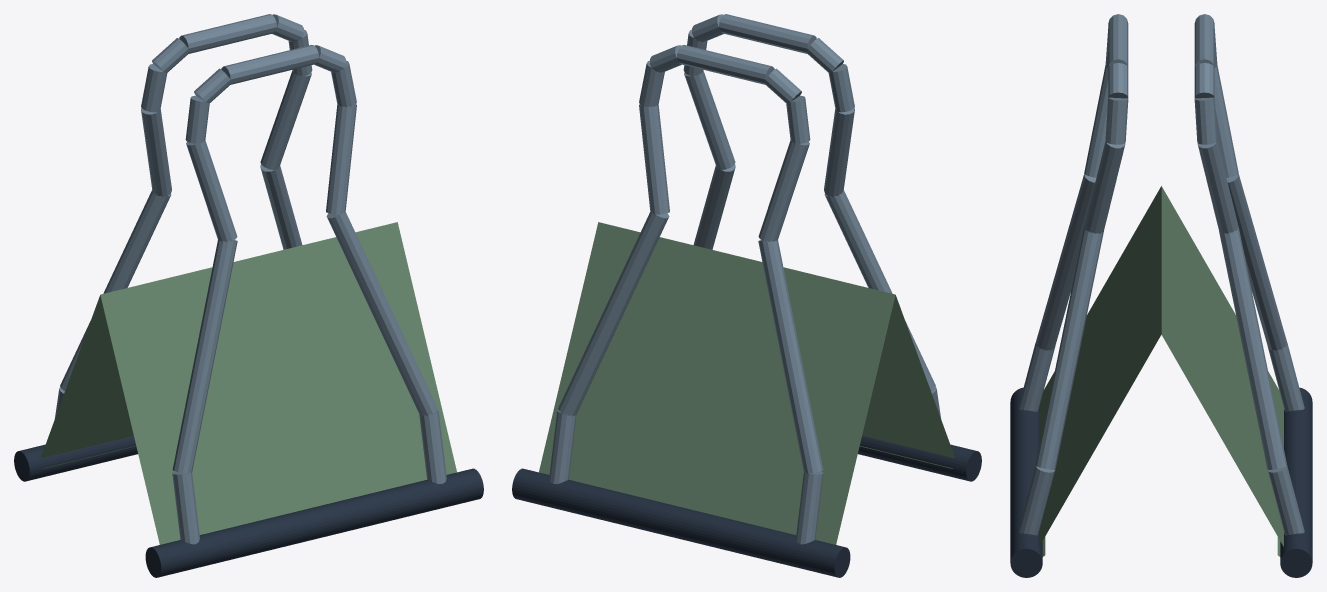
File: binder.glb
The picture shows the model from 3 angles, left to right: view 1: azimuth 30°, elevation 25°; view 2: azimuth 150°, elevation 25°; view 3: azimuth 270°, elevation 25°; orthographic projection. The views are drawn at different scales.
Visible parts, largest first — view 1: fold 0, front lip, fold 1, wire 11, wire 19, rear lip, wire -11, wire 18, wire 12, wire -18, wire -15, wire 15 (+9 smaller); view 2: fold 1, rear lip, fold 0, wire -11, wire -19, front lip, wire 11, wire -18, wire -12, wire 18, wire 15, wire -15 (+9 smaller); view 3: fold 0, fold 1, wire -19, wire 19, rear lip, front lip, wire -11, wire 11, wire -18, wire 18, wire -110, wire 110 (+10 smaller).
Boxes of the visible parts, bbox=[...] form: fold 0: bbox=[100, 222, 456, 544]; front lip: bbox=[145, 468, 483, 577]; fold 1: bbox=[41, 295, 133, 458]; wire 11: bbox=[172, 240, 237, 473]; wire 19: bbox=[326, 211, 437, 416]; rear lip: bbox=[14, 436, 137, 481]; wire -11: bbox=[60, 190, 171, 391]; wire 18: bbox=[326, 104, 356, 214]; wire 12: bbox=[186, 140, 237, 241]; wire -18: bbox=[260, 70, 311, 169]; wire -15: bbox=[179, 14, 276, 53]; wire 15: bbox=[221, 45, 319, 84]; fold 1: bbox=[539, 222, 895, 544]; rear lip: bbox=[512, 468, 850, 577]; fold 0: bbox=[862, 295, 954, 458]; wire -11: bbox=[758, 240, 823, 473]; wire -19: bbox=[558, 211, 669, 416]; front lip: bbox=[858, 436, 981, 481]; wire 11: bbox=[824, 190, 935, 391]; wire -18: bbox=[639, 104, 669, 214]; wire -12: bbox=[758, 140, 809, 241]; wire 18: bbox=[684, 70, 735, 169]; wire 15: bbox=[719, 14, 816, 53]; wire -15: bbox=[676, 45, 774, 84]; fold 0: bbox=[1039, 186, 1161, 546]; fold 1: bbox=[1161, 186, 1283, 546]; wire -19: bbox=[1219, 228, 1287, 469]; wire 19: bbox=[1035, 228, 1103, 469]; rear lip: bbox=[1280, 387, 1312, 577]; front lip: bbox=[1010, 387, 1042, 577]; wire -11: bbox=[1226, 174, 1287, 350]; wire 11: bbox=[1035, 174, 1096, 350]; wire -18: bbox=[1197, 141, 1238, 233]; wire 18: bbox=[1084, 141, 1125, 233]; wire -110: bbox=[1267, 466, 1304, 535]; wire 110: bbox=[1018, 466, 1055, 535].
Bounding box in the file's own units: 1.02 × 1.36 × 0.806.
